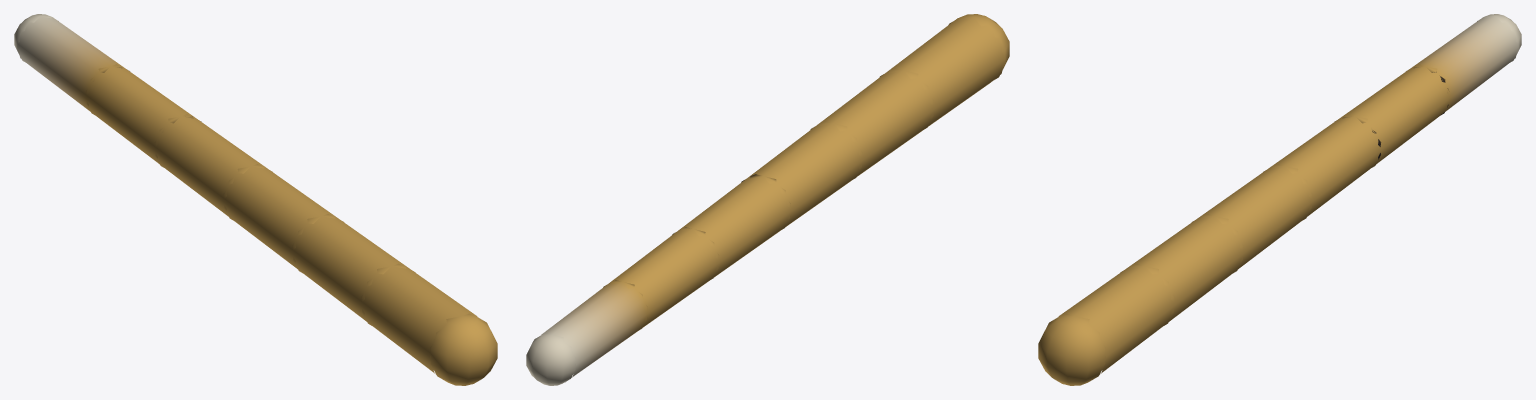
The model's file is cheetah_tail.glb.
The picture shows the model from 3 angles, left to right: view 1: azimuth 30°, elevation 25°; view 2: azimuth 150°, elevation 25°; view 3: azimuth 330°, elevation 25°; orthographic projection.
Visible parts, largest first — view 1: cheetah_tail, cheetah_tail_seg_02, cheetah_tail_seg_03, cheetah_tail_seg_04, cheetah_tail_seg_05, cheetah_tail_seg_06; view 2: cheetah_tail, cheetah_tail_seg_06, cheetah_tail_seg_02, cheetah_tail_seg_03, cheetah_tail_seg_04, cheetah_tail_seg_05; view 3: cheetah_tail, cheetah_tail_seg_02, cheetah_tail_seg_03, cheetah_tail_seg_04, cheetah_tail_seg_05, cheetah_tail_seg_06.
Part boxes in pixels (bbox=[...]): cheetah_tail: bbox=[361, 265, 497, 385]; cheetah_tail_seg_02: bbox=[292, 214, 406, 321]; cheetah_tail_seg_03: bbox=[223, 164, 335, 269]; cheetah_tail_seg_04: bbox=[154, 114, 264, 216]; cheetah_tail_seg_05: bbox=[86, 64, 201, 164]; cheetah_tail_seg_06: bbox=[14, 14, 122, 111]; cheetah_tail: bbox=[879, 14, 1009, 131]; cheetah_tail_seg_06: bbox=[526, 281, 647, 385]; cheetah_tail_seg_02: bbox=[810, 70, 933, 181]; cheetah_tail_seg_03: bbox=[750, 121, 862, 231]; cheetah_tail_seg_04: bbox=[672, 174, 790, 281]; cheetah_tail_seg_05: bbox=[603, 228, 719, 331]; cheetah_tail: bbox=[1038, 265, 1174, 385]; cheetah_tail_seg_02: bbox=[1129, 214, 1243, 324]; cheetah_tail_seg_03: bbox=[1200, 164, 1312, 269]; cheetah_tail_seg_04: bbox=[1271, 114, 1380, 216]; cheetah_tail_seg_05: bbox=[1342, 64, 1449, 164]; cheetah_tail_seg_06: bbox=[1413, 14, 1521, 115].
Size of the model in its own units: 0.068 by 0.068 by 0.8347.
